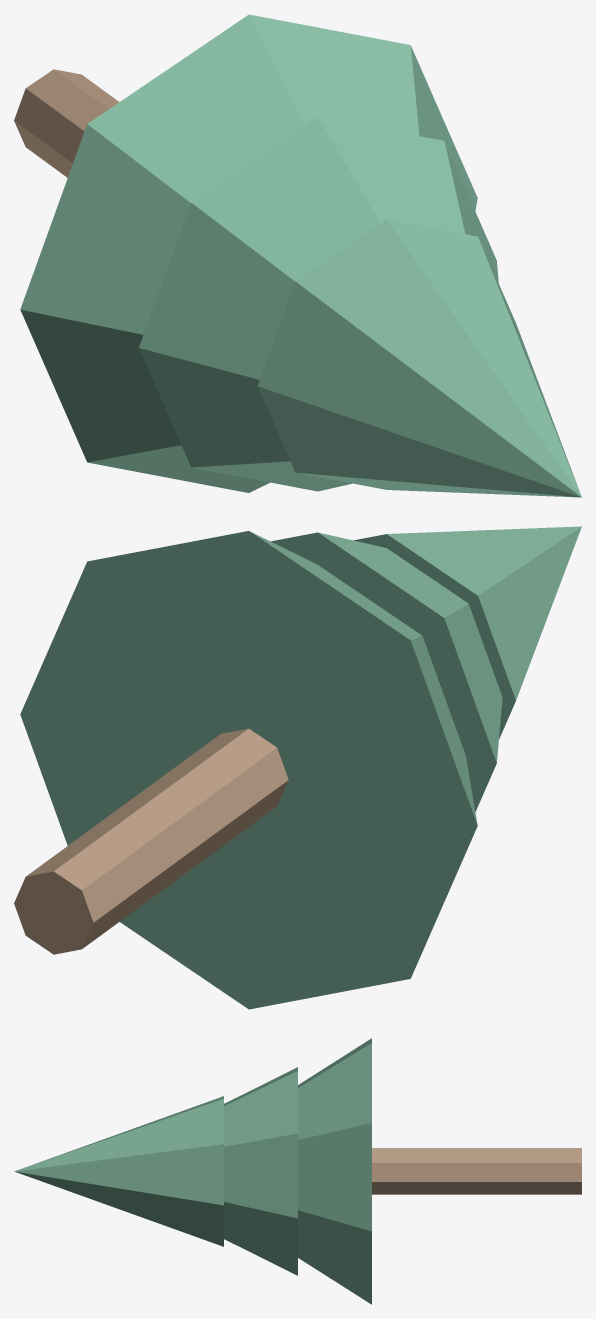
Rendered from strom.glb.
3 views of the same model, one above another, from view 1: azimuth 30°, elevation 25°; view 2: azimuth 150°, elevation 25°; view 3: azimuth 270°, elevation 25° (orthographic). The views are drawn at different scales.
Visible parts, largest first — view 1: world; view 2: world; view 3: world.
Part boxes in pixels (bbox=[...]): world: bbox=[14, 14, 581, 497]; world: bbox=[14, 526, 581, 1009]; world: bbox=[14, 1038, 581, 1304].
Size of the model in its own units: 2.3 by 2.3 by 4.6.
